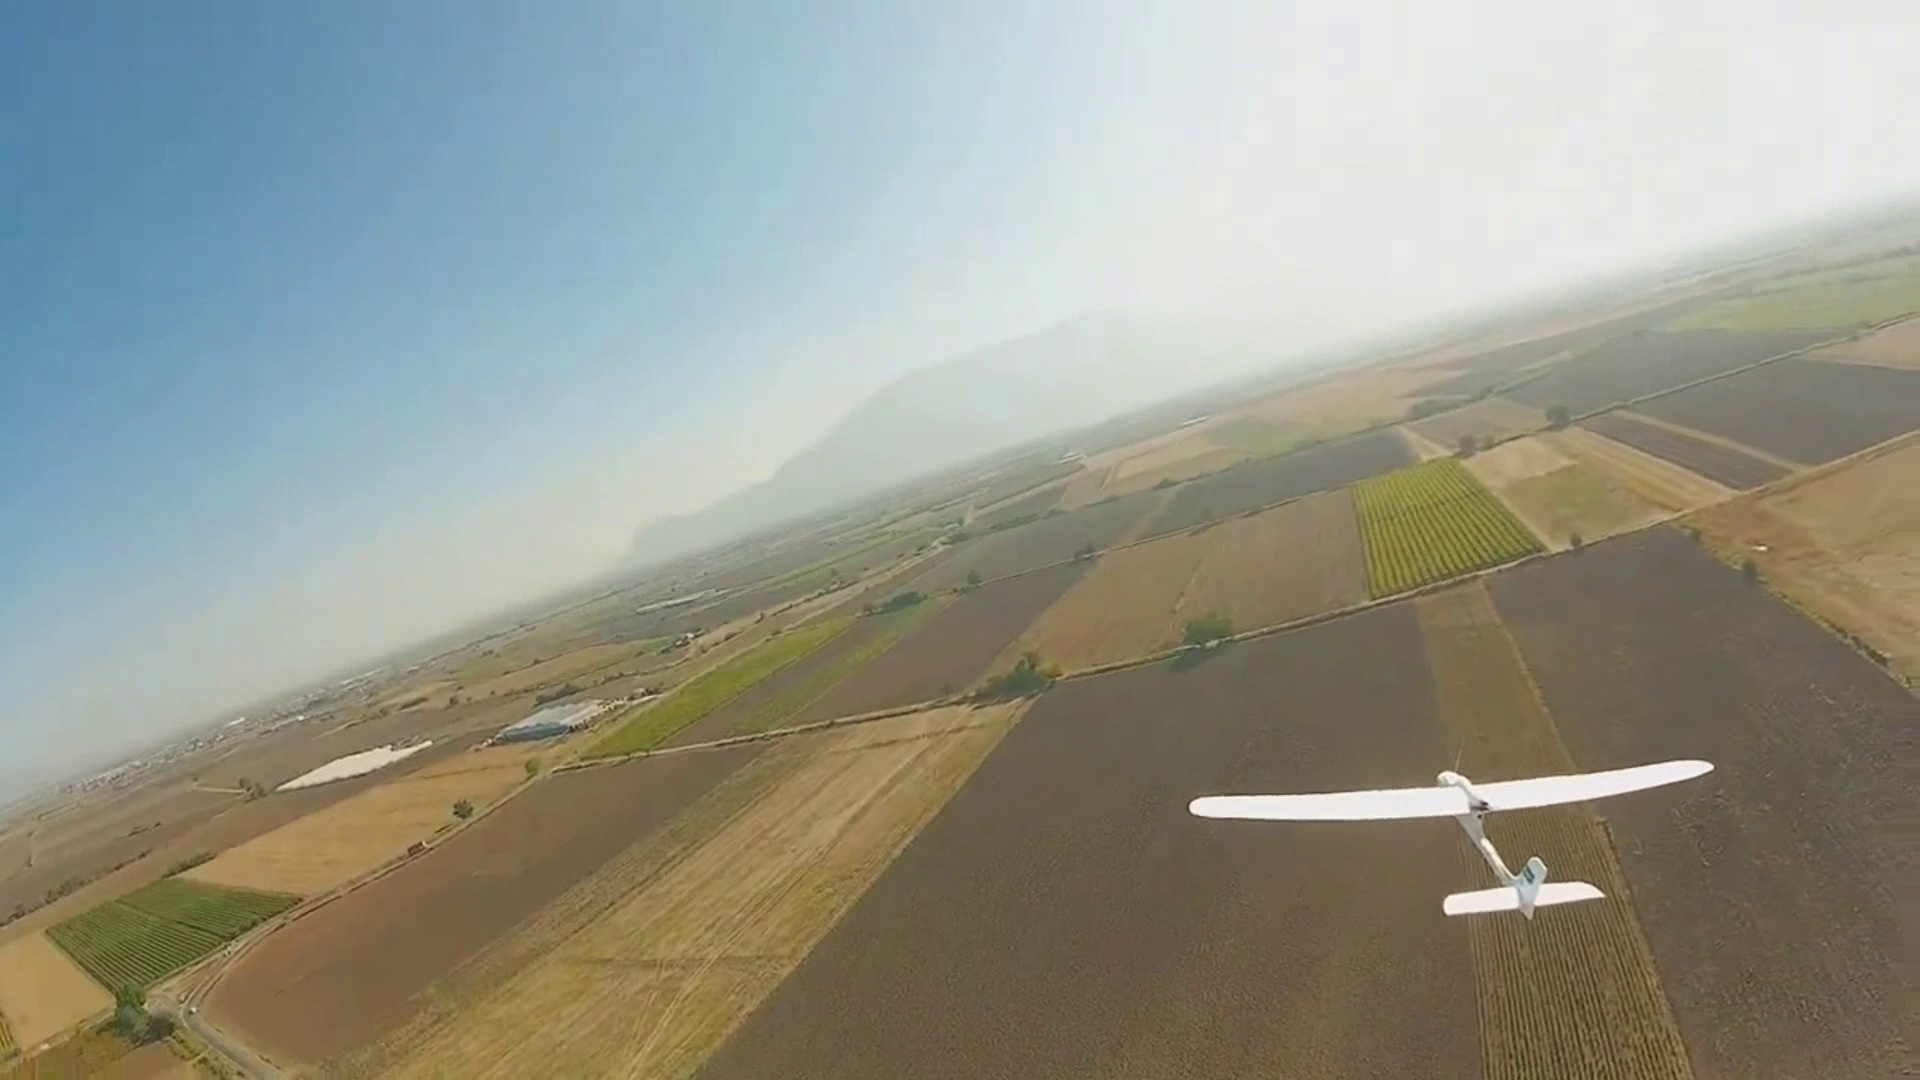airplane: (8, 194, 1919, 1063), (1188, 764, 1712, 920)
